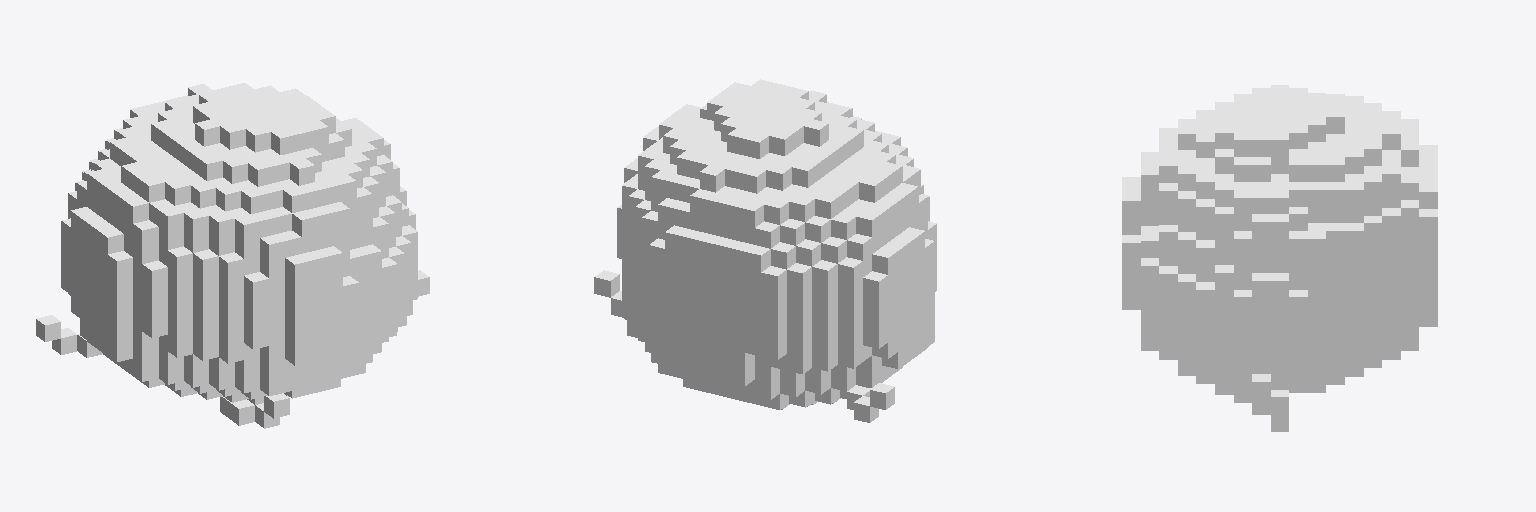
The model's file is PookaInflate2Quarter.obj.
The picture shows the model from 3 angles: view 1: azimuth 30°, elevation 25°; view 2: azimuth 150°, elevation 25°; view 3: azimuth 270°, elevation 25°; orthographic projection.
Parts seen in each view (by area): view 1: Pooka; view 2: Pooka; view 3: Pooka.
Part boxes in pixels (x1,y1,x2,y2): Pooka: (36,83,429,428); Pooka: (594,79,936,422); Pooka: (1122,85,1437,431).
Size of the model in its own units: 2.1 by 1.7 by 1.7.